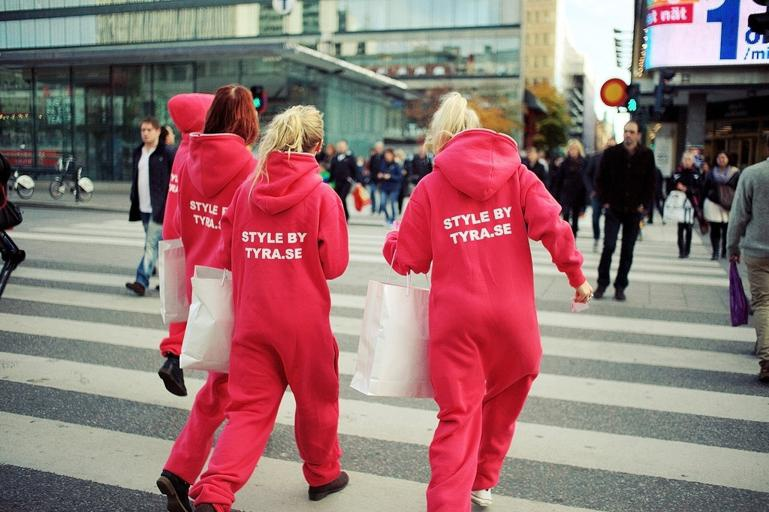non-vehicle: (48, 150, 96, 203), (3, 162, 37, 200)
